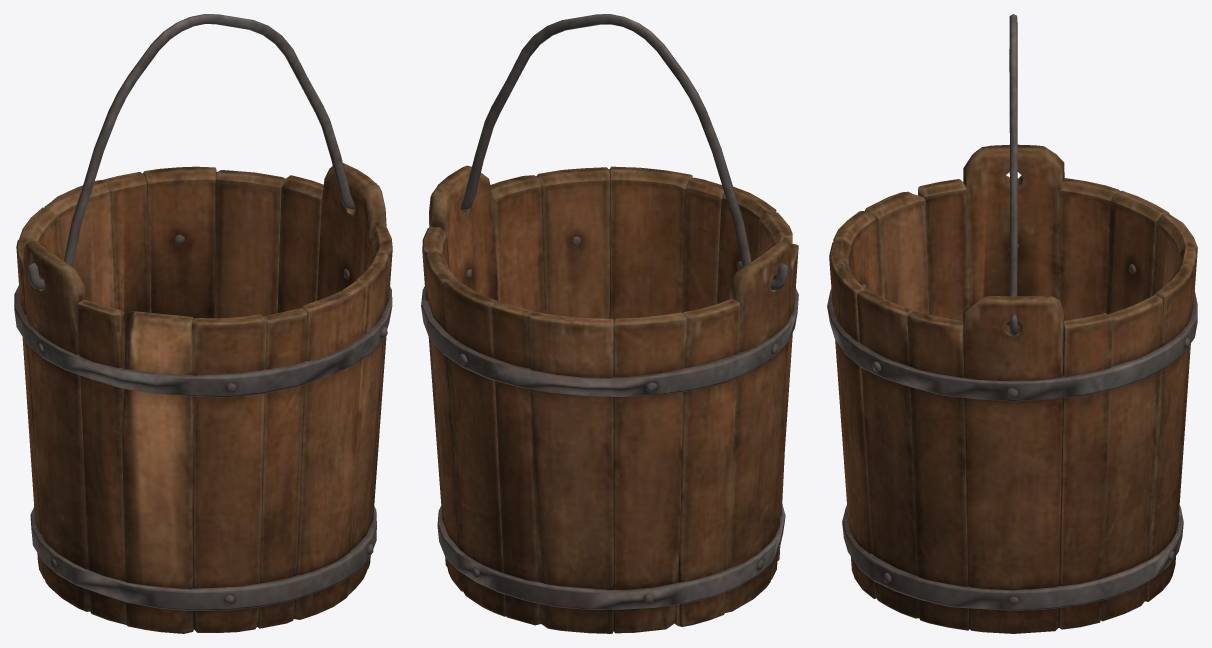
Rendered from wooden_bucket_01_1k.gltf.
3 views of the same model, side by side, from view 1: azimuth 30°, elevation 25°; view 2: azimuth 150°, elevation 25°; view 3: azimuth 270°, elevation 25° (orthographic).
Parts seen in each view (by area): view 1: wooden_bucket_01, wooden_bucket_01_handle; view 2: wooden_bucket_01, wooden_bucket_01_handle; view 3: wooden_bucket_01, wooden_bucket_01_handle.
Part boxes in pixels (bbox=[...]): wooden_bucket_01: bbox=[14, 163, 392, 633]; wooden_bucket_01_handle: bbox=[28, 14, 376, 289]; wooden_bucket_01: bbox=[421, 165, 798, 633]; wooden_bucket_01_handle: bbox=[437, 14, 787, 290]; wooden_bucket_01: bbox=[827, 144, 1197, 633]; wooden_bucket_01_handle: bbox=[1009, 14, 1017, 335].
Size of the model in its own units: 0.367 by 0.5499 by 0.3419.
Materials: 1 (1 with a texture image).
